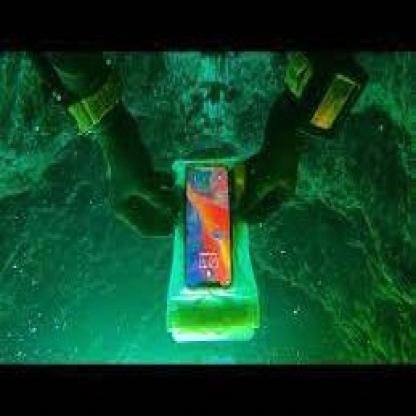cellphone: (182, 159, 235, 298)
